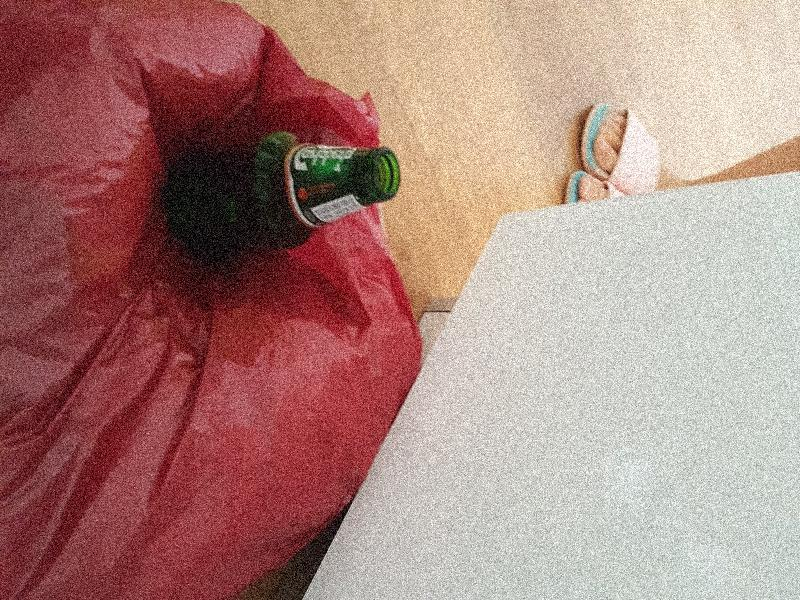Beer: (163, 132, 399, 259)
